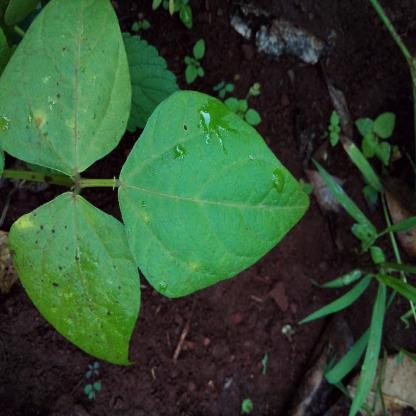Beans_Rust: (119, 90, 315, 306), (7, 190, 139, 371), (0, 0, 133, 172)
